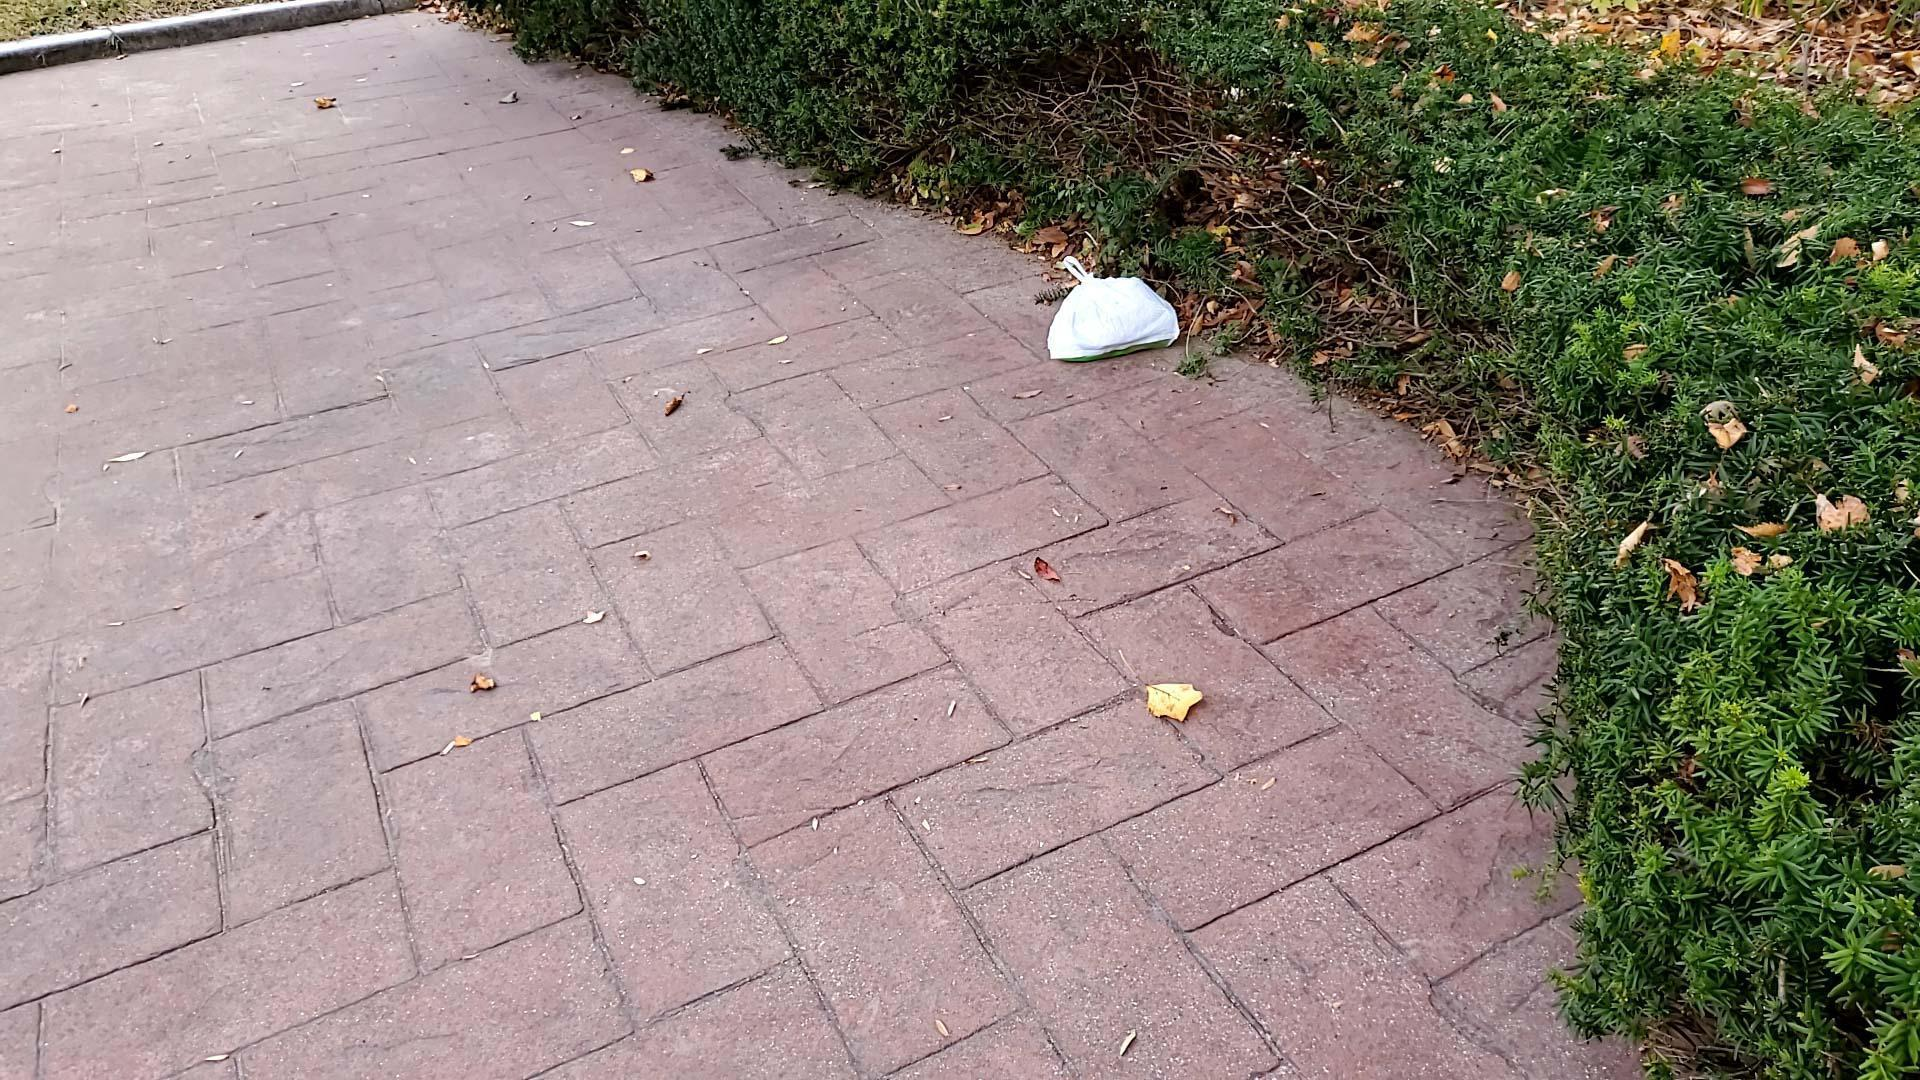white_bag: (1015, 244, 1195, 377)
